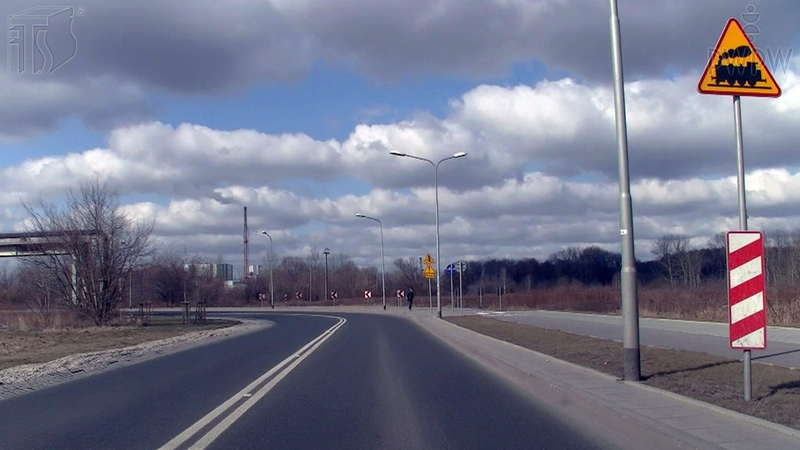a10: (705, 44, 775, 92)
